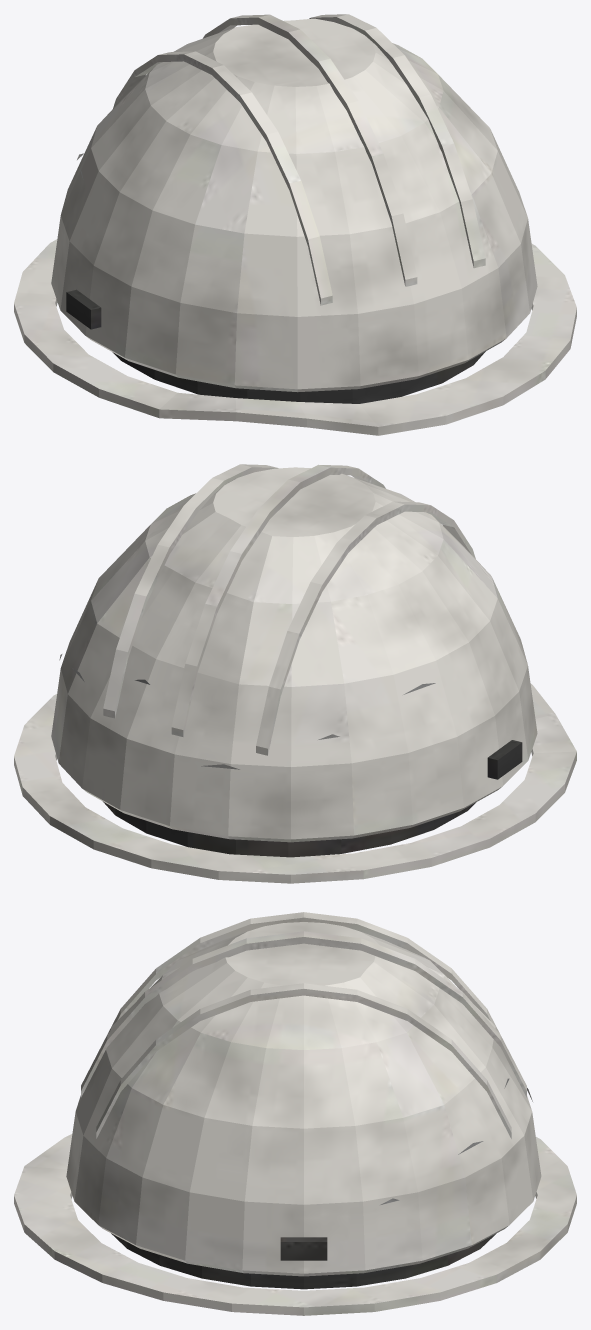
The model's file is CS16_hard_hats_v3.glb.
3 views of the same model, one above another, from view 1: azimuth 30°, elevation 25°; view 2: azimuth 150°, elevation 25°; view 3: azimuth 270°, elevation 25° (orthographic). The views are drawn at different scales.
Parts seen in each view (by area): view 1: Hollow molded crown; view 2: Hollow molded crown; view 3: Hollow molded crown.
Boxes of the visible parts, x1,y1,x2,y2 form: Hollow molded crown: (14,14,576,435); Hollow molded crown: (14,464,576,883); Hollow molded crown: (14,912,576,1315).
Bounding box in the file's own units: 0.2831 × 0.1615 × 0.3.
3 materials, 3 textured.
